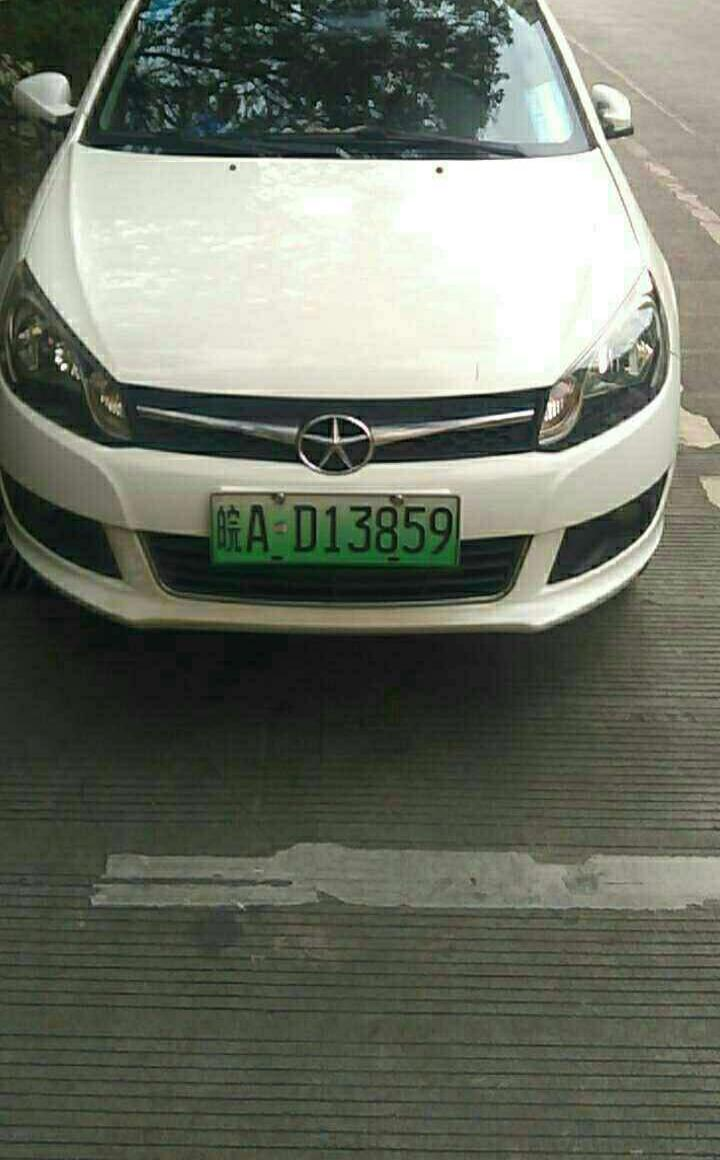car_id: (208, 490, 461, 564)
